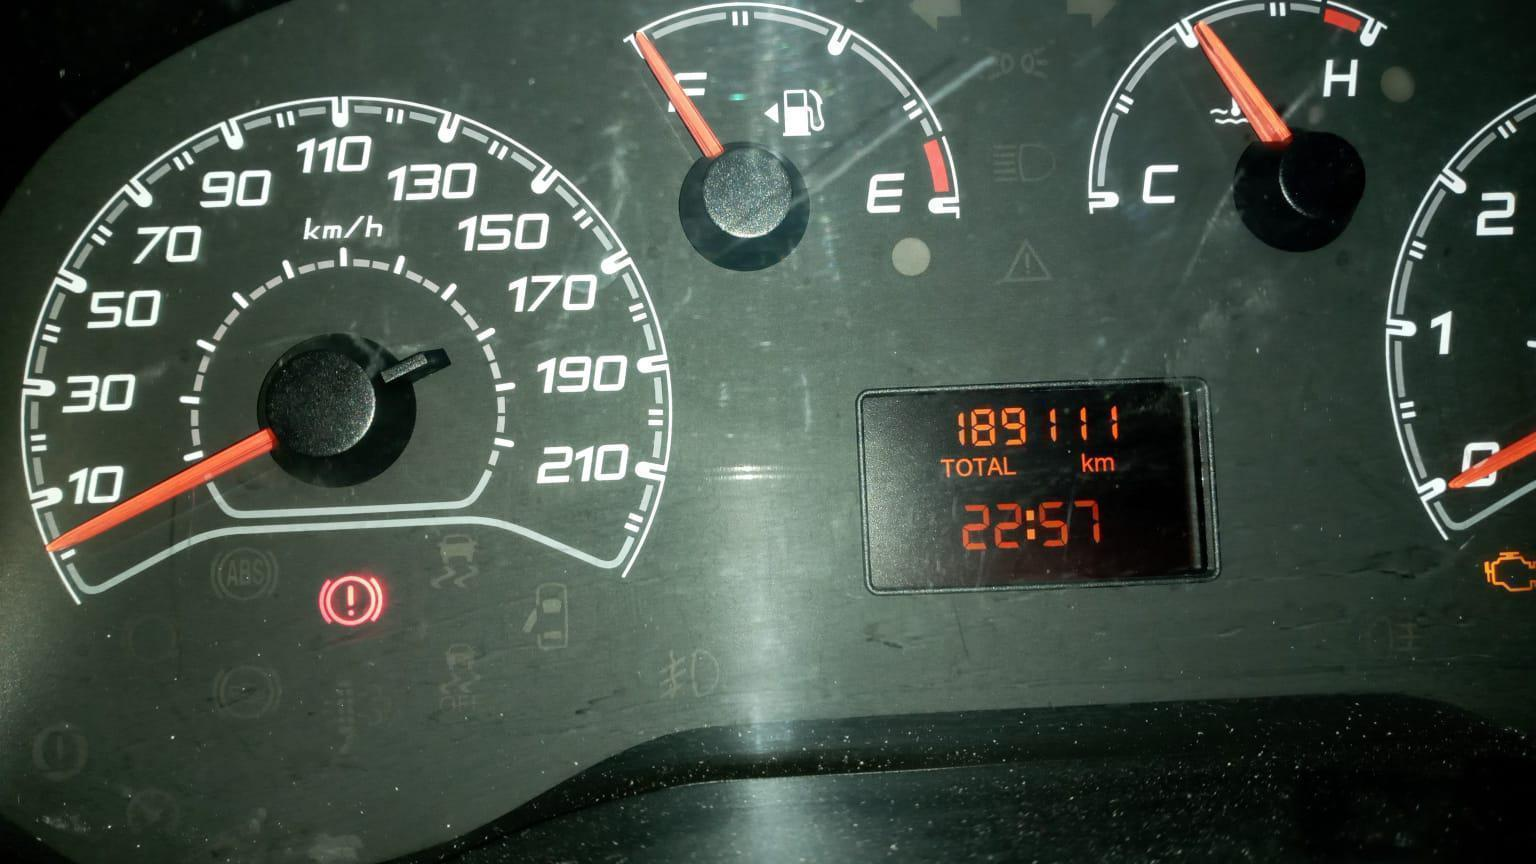1: (956, 411, 966, 446), (1078, 405, 1088, 442), (1110, 404, 1119, 440), (1048, 407, 1057, 443)
2: (993, 502, 1023, 549), (961, 504, 990, 551)
5: (1038, 501, 1068, 548)
7: (1073, 499, 1101, 544)
8: (969, 407, 996, 446)
9: (1000, 406, 1028, 446)
X: (955, 458, 974, 477), (986, 456, 1003, 476), (971, 457, 987, 477), (1024, 508, 1035, 540), (1094, 456, 1114, 472), (939, 458, 955, 478), (1002, 455, 1017, 476), (1079, 452, 1094, 472)
odometer: (855, 375, 1222, 598)
